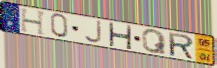0: (49, 13, 70, 39)
H: (19, 7, 48, 37), (108, 21, 133, 51)
J: (82, 19, 103, 44)
Q: (140, 29, 168, 56)
R: (168, 32, 196, 61)
